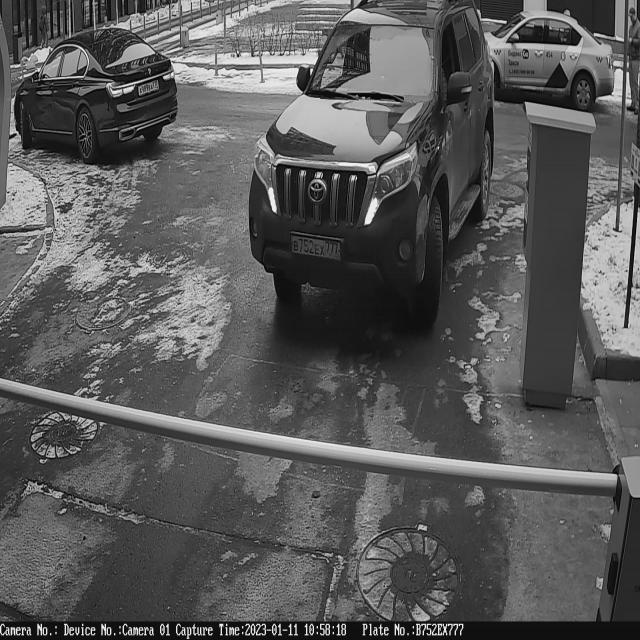car-plate-numbers: (289, 227, 346, 268)
